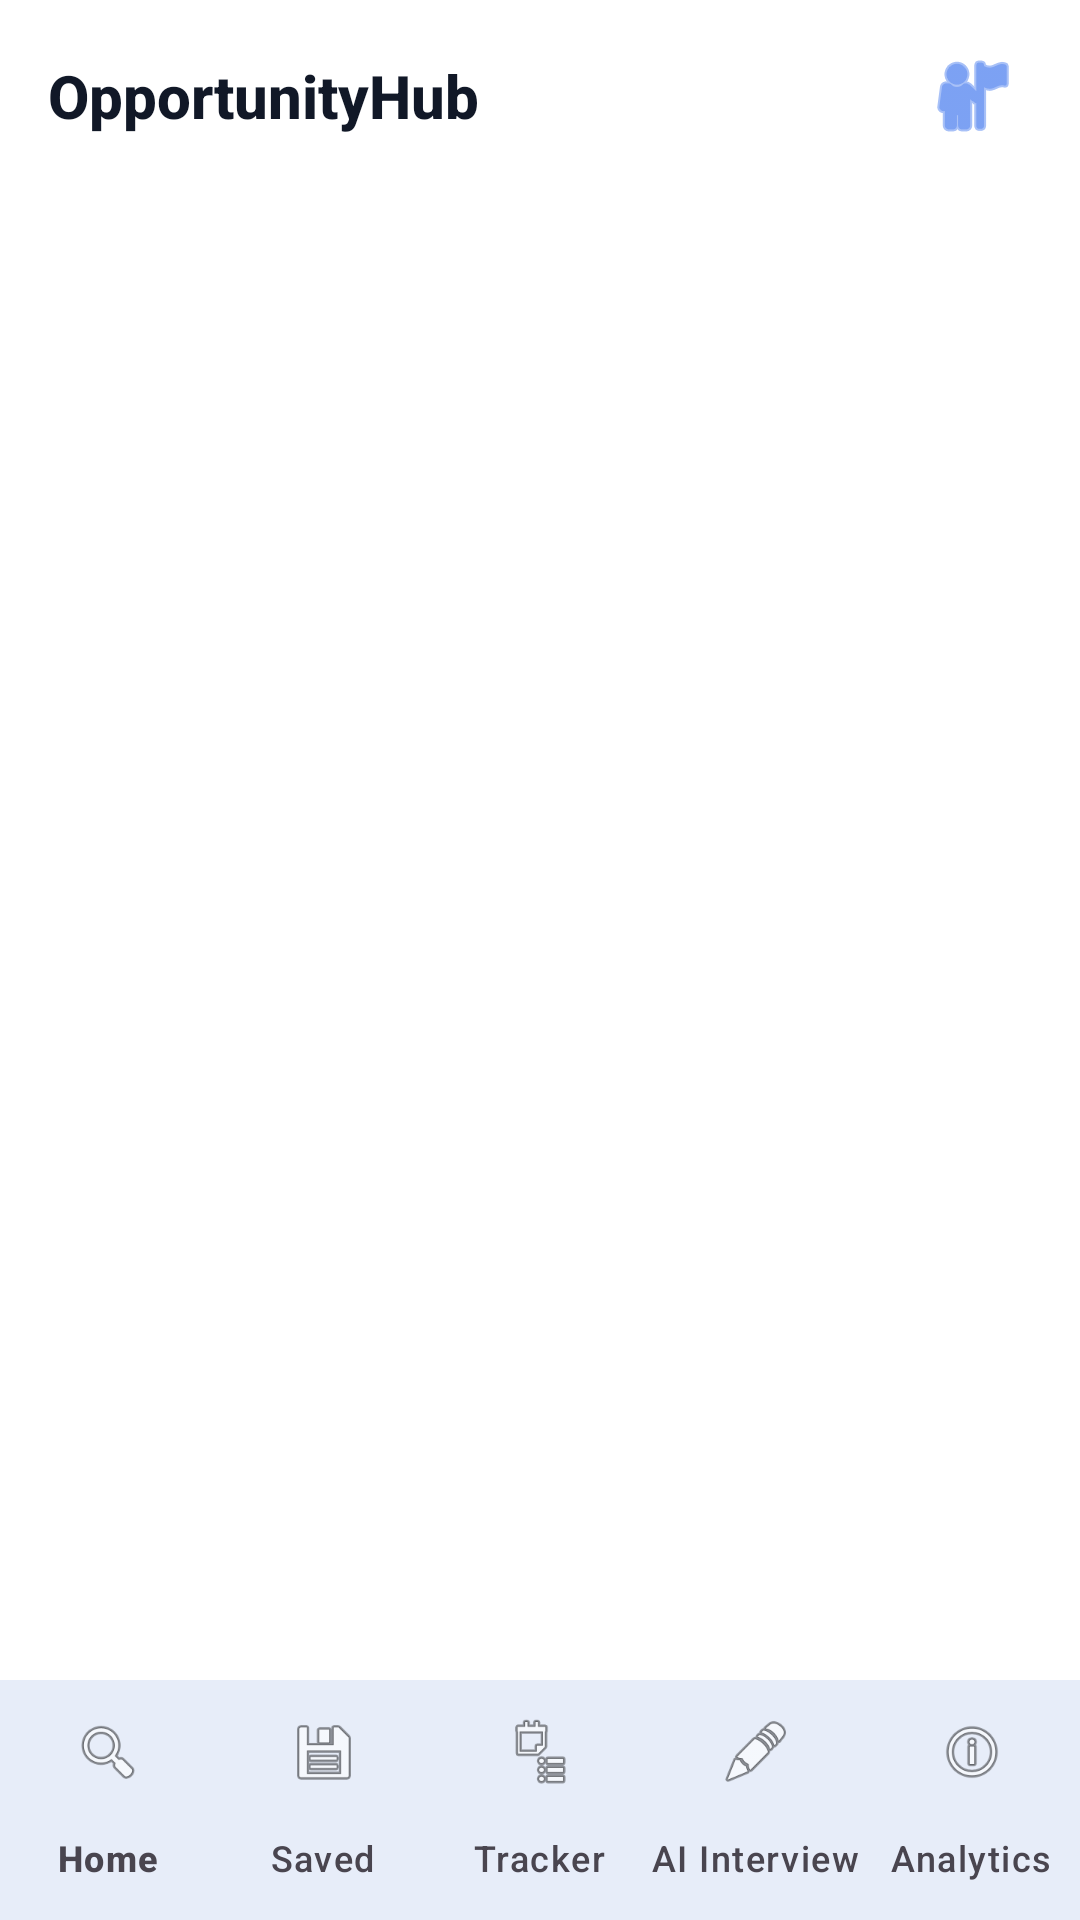

Screen size 1080px x 1920px. Icon name, then its center in pixels as [x,y]:
Profile: [973,96]
